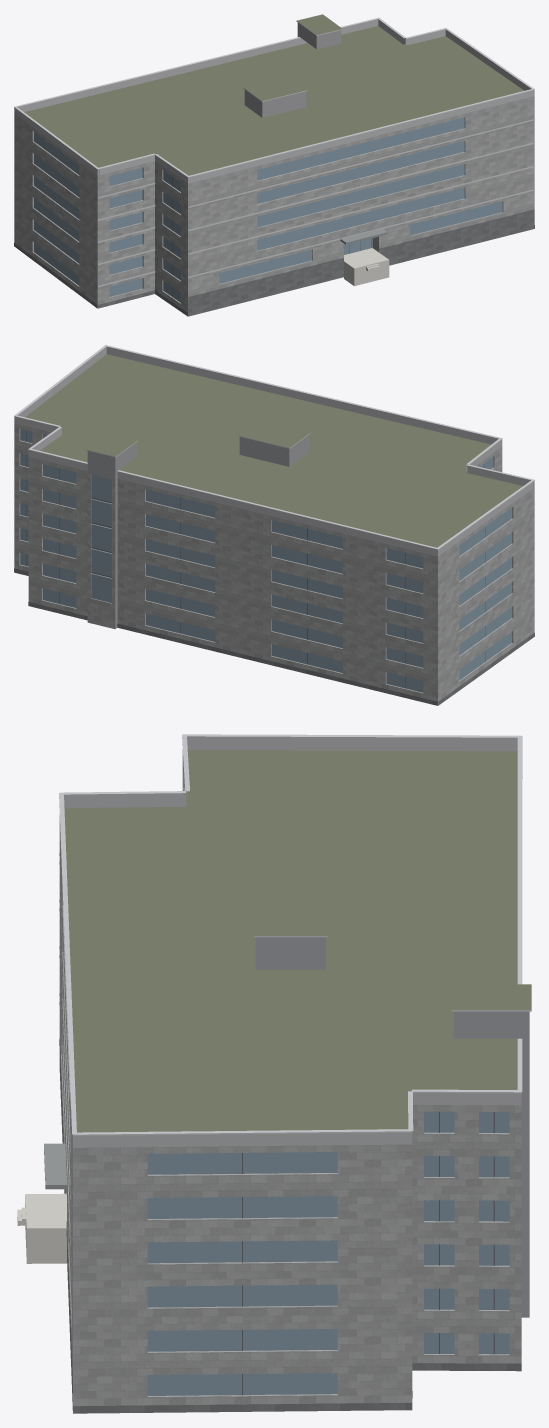
3 views of the same model, one above another, from view 1: azimuth 30°, elevation 25°; view 2: azimuth 150°, elevation 25°; view 3: azimuth 270°, elevation 25° (orthographic). The views are drawn at different scales.
Parts seen in each view (by area): view 1: b31__wall, b31__roof, b31__glass, b31__parapet, b31__base, b31__trim, b31__wall2, b31__entranceStair; view 2: b31__wall, b31__roof, b31__glass, b31__parapet, b31__trim, b31__wall2, b31__base, b31__frame; view 3: b31__roof, b31__wall, b31__glass, b31__parapet, b31__trim, b31__wall2, b31__base, b31__entranceStair, b31__canopy.
Part boxes in pixels (<box>): b31__wall: <box>14,96,534,312</box>; b31__roof: <box>24,14,532,315</box>; b31__glass: <box>34,117,502,302</box>; b31__parapet: <box>14,19,534,183</box>; b31__base: <box>14,209,534,316</box>; b31__trim: <box>14,17,534,287</box>; b31__wall2: <box>244,23,341,117</box>; b31__entranceStair: <box>344,248,389,286</box>; b31__wall: <box>14,423,534,705</box>; b31__roof: <box>25,354,522,547</box>; b31__glass: <box>20,428,511,692</box>; b31__parapet: <box>14,346,534,556</box>; b31__trim: <box>14,345,534,549</box>; b31__wall2: <box>87,435,308,628</box>; b31__base: <box>14,568,534,705</box>; b31__frame: <box>26,430,485,688</box>; b31__roof: <box>64,750,531,1413</box>; b31__wall: <box>59,751,521,1406</box>; b31__glass: <box>147,1111,509,1395</box>; b31__parapet: <box>64,736,521,1147</box>; b31__trim: <box>59,734,531,1333</box>; b31__wall2: <box>255,937,529,1317</box>; b31__base: <box>59,1039,521,1413</box>; b31__entranceStair: <box>17,1193,66,1263</box>; b31__canopy: <box>44,1143,67,1189</box>.
Bounding box in the file's own units: 69.86 × 25.41 × 37.95.
Materials: 11 (2 with a texture image).
